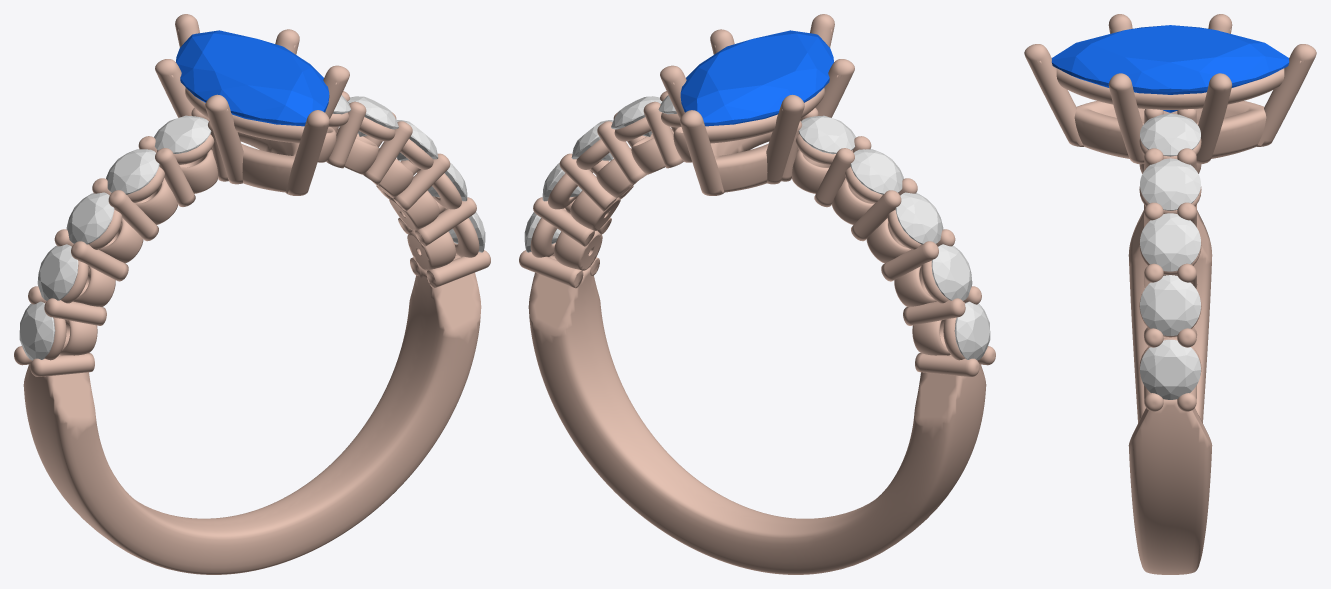
File: bluesapphire-marquise-rosegold-6prong-straighttaperedband-11stone.glb
The picture shows the model from 3 angles, left to right: view 1: azimuth 30°, elevation 25°; view 2: azimuth 150°, elevation 25°; view 3: azimuth 270°, elevation 25°; orthographic projection.
Parts seen in each view (by area): view 1: metal.001, stone.001, dia.014, dia.015, dia.013, dia.001, dia.016, dia.020; view 2: metal.001, stone.001, dia.014, dia.015, dia.013, dia.001, dia.016, dia.020; view 3: metal.001, stone.001, dia.018, dia.017, dia.019, dia.020, dia.021.
Boxes of the visible parts, x1,y1,x2,y2 form: metal.001: [14, 14, 490, 574]; stone.001: [176, 30, 329, 126]; dia.014: [66, 192, 114, 244]; dia.015: [106, 149, 159, 194]; dia.013: [37, 244, 78, 300]; dia.001: [19, 301, 55, 360]; dia.016: [154, 115, 211, 153]; dia.020: [347, 96, 398, 136]; metal.001: [519, 14, 995, 574]; stone.001: [680, 30, 833, 126]; dia.014: [895, 192, 943, 244]; dia.015: [850, 149, 903, 194]; dia.013: [931, 244, 972, 300]; dia.001: [954, 301, 990, 360]; dia.016: [798, 115, 855, 154]; dia.020: [611, 96, 662, 136]; metal.001: [1024, 14, 1316, 574]; stone.001: [1051, 25, 1289, 112]; dia.018: [1140, 275, 1200, 335]; dia.017: [1140, 339, 1200, 399]; dia.019: [1140, 213, 1200, 271]; dia.020: [1140, 158, 1200, 210]; dia.021: [1140, 113, 1200, 156].
Bounding box in the file's own units: 21.88 × 22.94 × 11.96.
